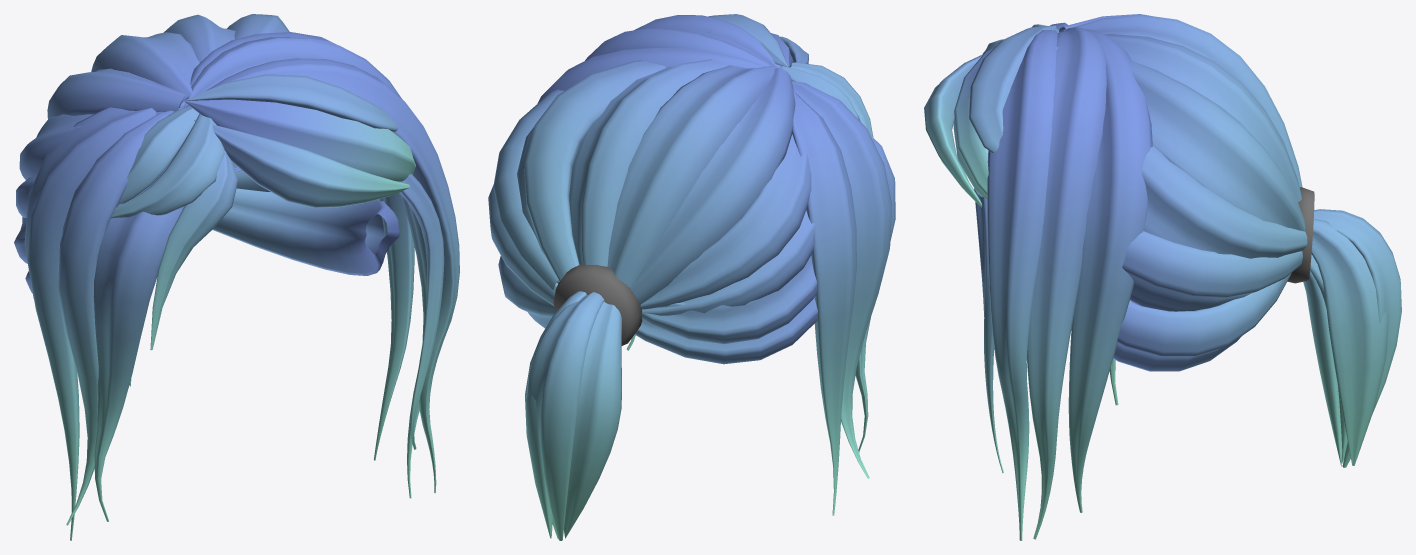
The model's file is haira4.fbx.
The picture shows the model from 3 angles, left to right: view 1: azimuth 30°, elevation 25°; view 2: azimuth 150°, elevation 25°; view 3: azimuth 270°, elevation 25°; orthographic projection. The views are drawn at different scales.
Parts seen in each view (by area): view 1: NurbsPath.017; view 2: NurbsPath.017; view 3: NurbsPath.017.
Part boxes in pixels (x1,y1,x2,y2): NurbsPath.017: (14, 14, 459, 540); NurbsPath.017: (488, 14, 895, 540); NurbsPath.017: (924, 14, 1401, 540).
Size of the model in its own units: 348 by 294 by 355.
